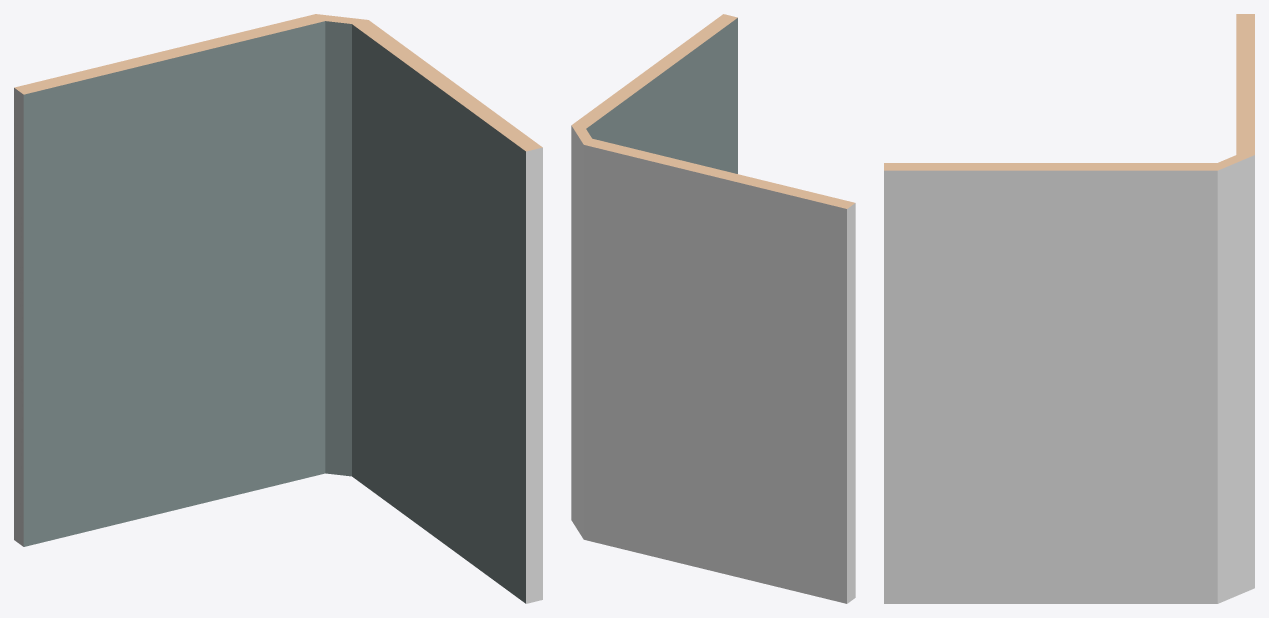
Rendered from wallCorner.fbx.
3 views of the same model, side by side, from view 1: azimuth 30°, elevation 25°; view 2: azimuth 150°, elevation 25°; view 3: azimuth 270°, elevation 25° (orthographic). The views are drawn at different scales.
Parts seen in each view (by area): view 1: wallCorner; view 2: wallCorner; view 3: wallCorner.
Boxes of the visible parts, <box> form: wallCorner: <box>14,14,542,603</box>; wallCorner: <box>571,14,855,603</box>; wallCorner: <box>884,14,1254,603</box>.
Size of the model in its own units: 100 by 100 by 129.
